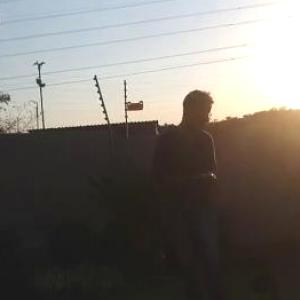follow: (146, 82, 224, 299)
